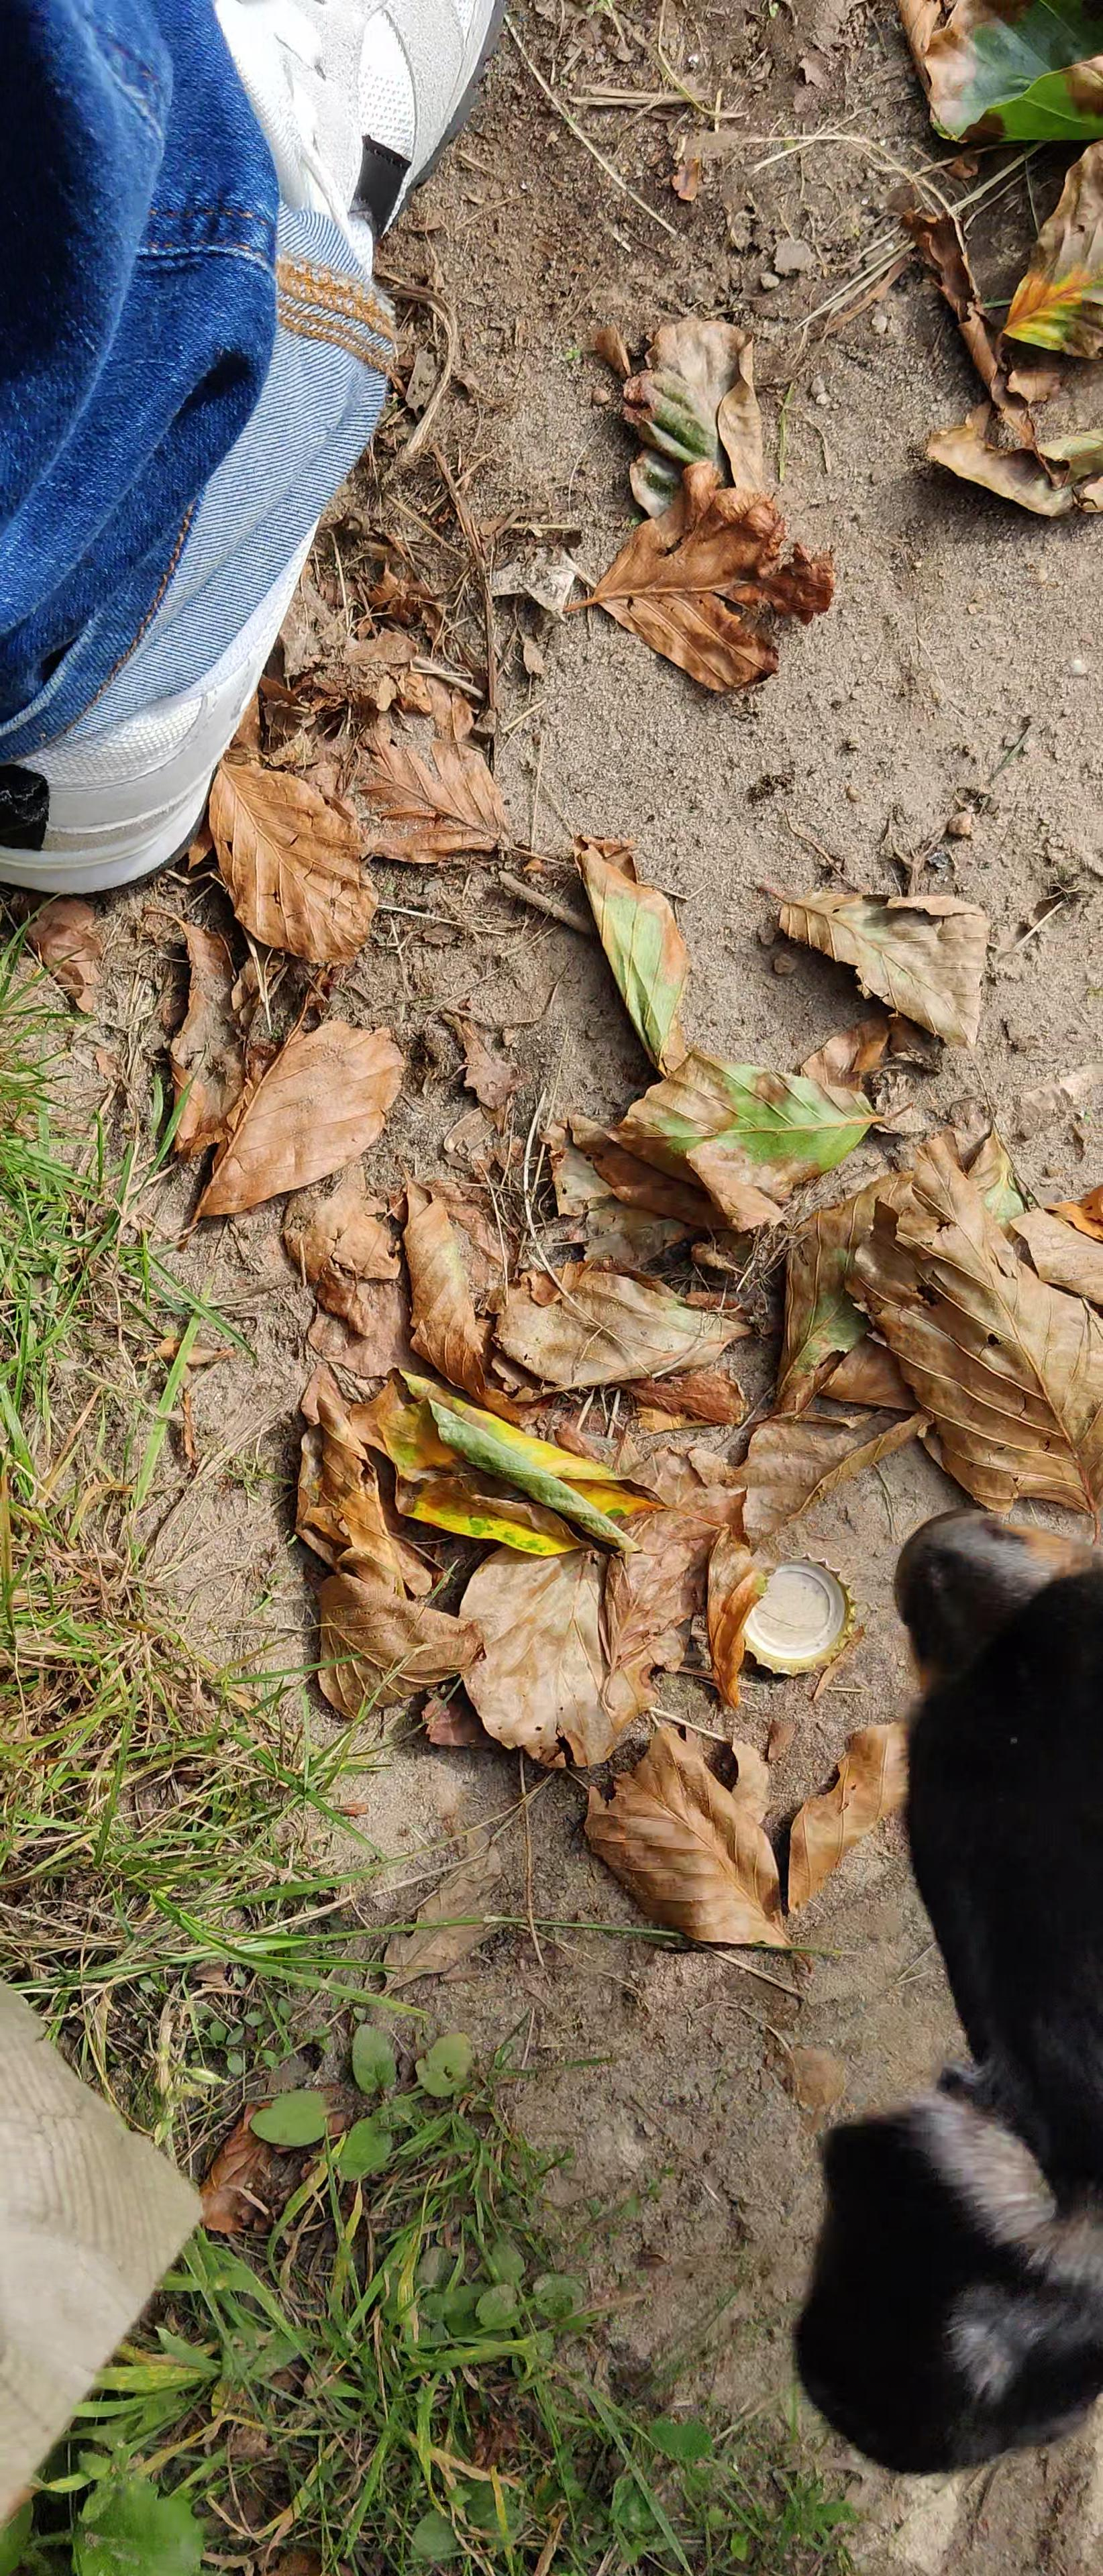Dog: (781, 1475, 1103, 2576)
